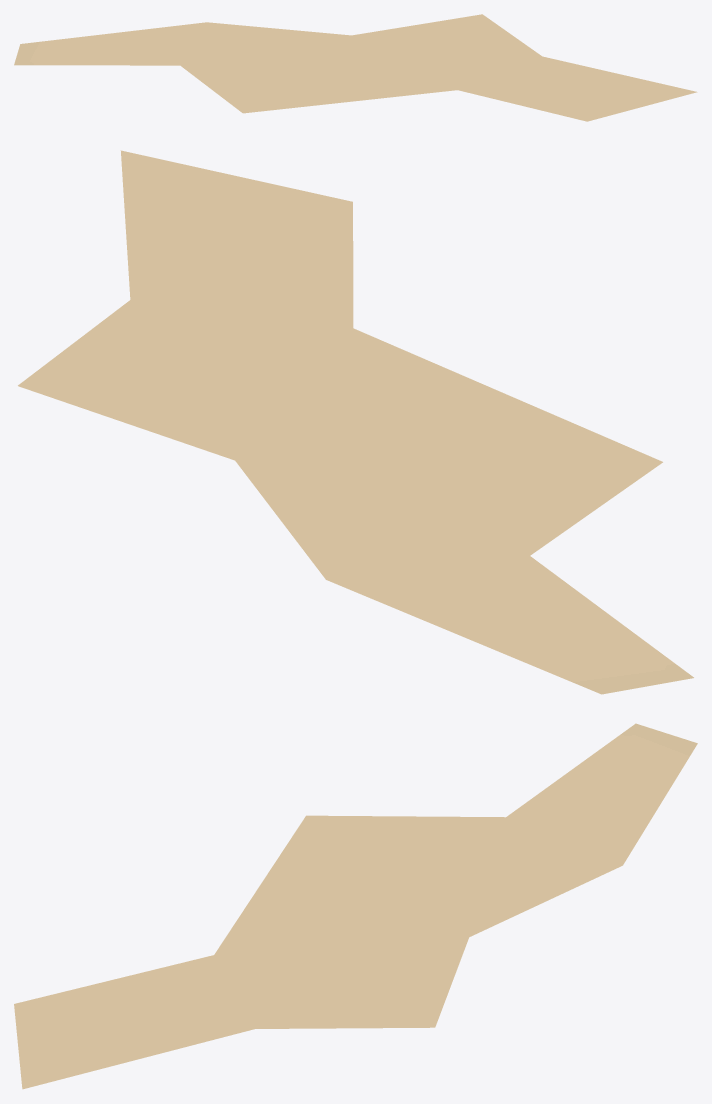
The model's file is west_tree07_sd.FBX.
3 views of the same model, one above another, from view 1: azimuth 30°, elevation 25°; view 2: azimuth 150°, elevation 25°; view 3: azimuth 270°, elevation 25° (orthographic). The views are drawn at different scales.
Parts seen in each view (by area): view 1: west_tree07_sd; view 2: west_tree07_sd; view 3: west_tree07_sd.
Part boxes in pixels (x1=…): west_tree07_sd: x1=14, y1=14, x2=697, y2=121; west_tree07_sd: x1=18, y1=150, x2=693, y2=694; west_tree07_sd: x1=14, y1=723, x2=697, y2=1089.
Bounding box in the file's own units: 1413 × 9.76e-05 × 1116.
